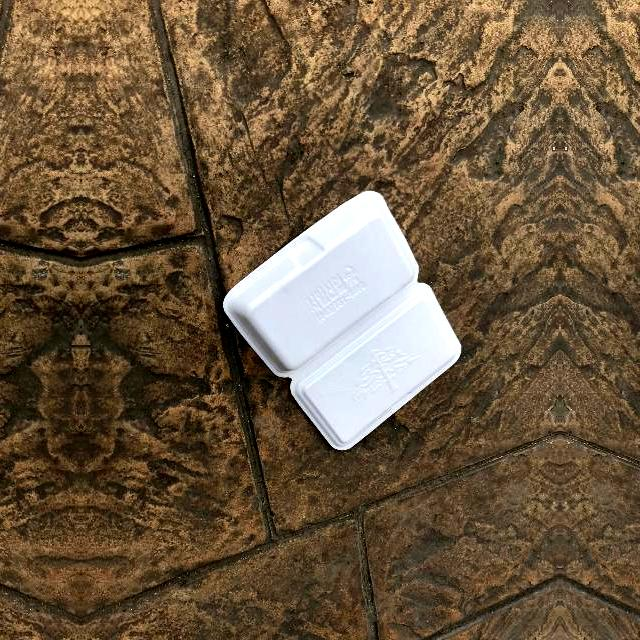Styrofoam: (220, 188, 464, 452), (222, 191, 461, 451)
